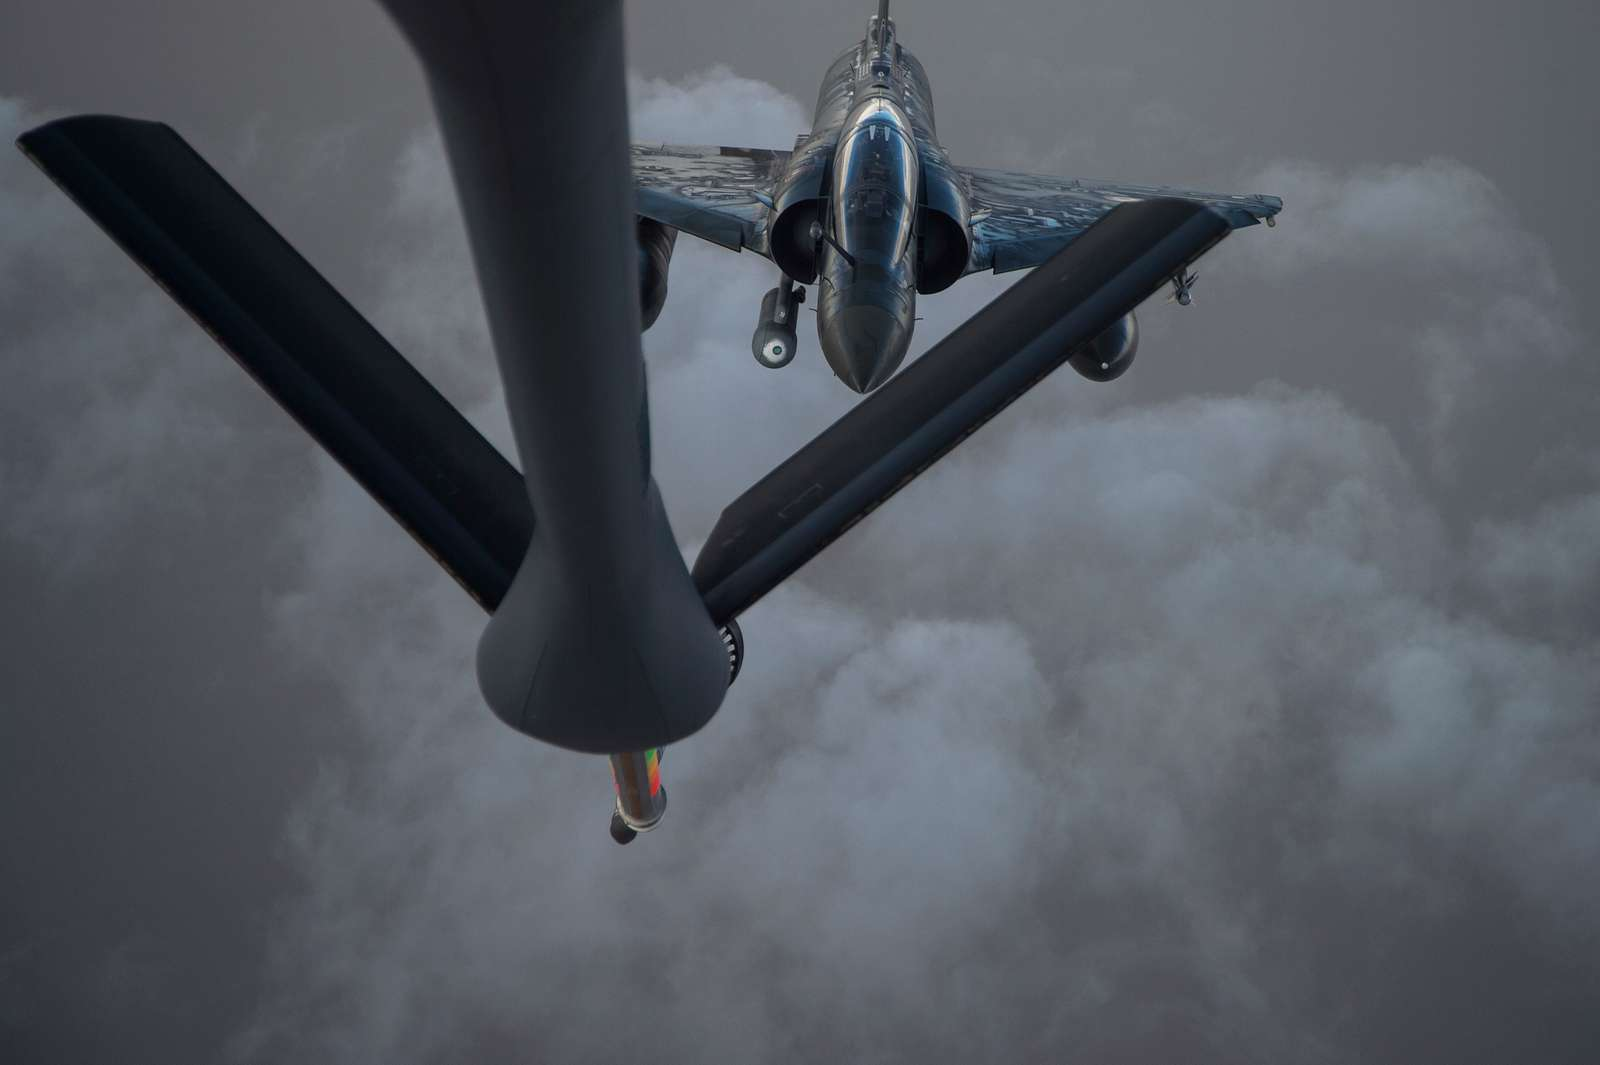Mirage2000: (629, 1, 1284, 393)
